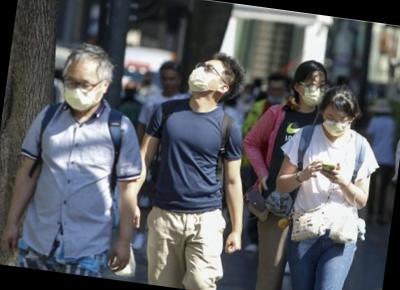mask_weared_incorrect: (267, 82, 287, 107)
with_mask: (60, 70, 106, 114), (188, 60, 226, 97), (320, 107, 354, 140), (297, 74, 328, 107)
without_mask: (159, 70, 180, 95)
